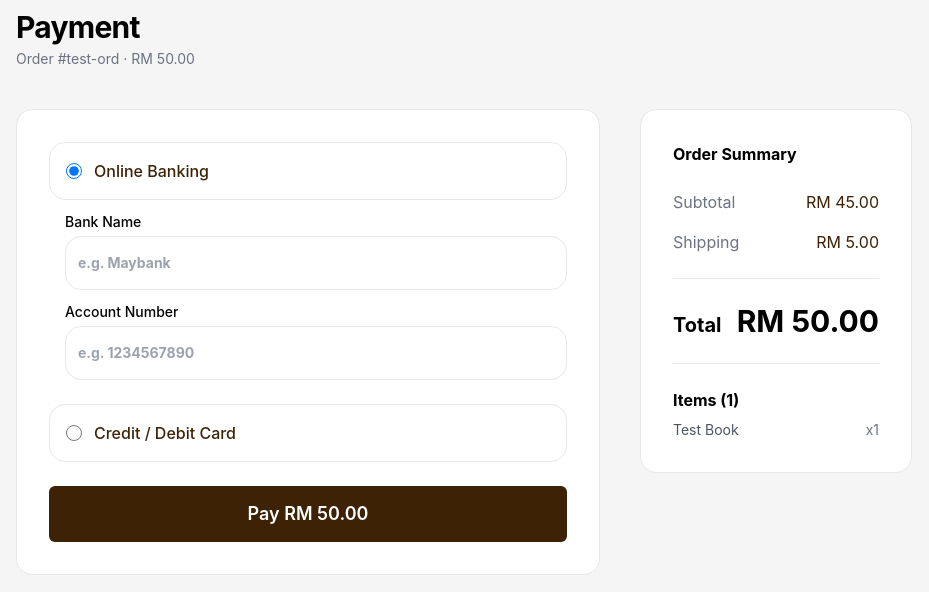
Test: CheckoutPaymentPage › shows card fields when card payment is selected
This screenshot has width=929, height=592.
Click the text "Credit / Debit Card".
click(165, 433)  # box x1=94 y1=421 x2=236 y2=445
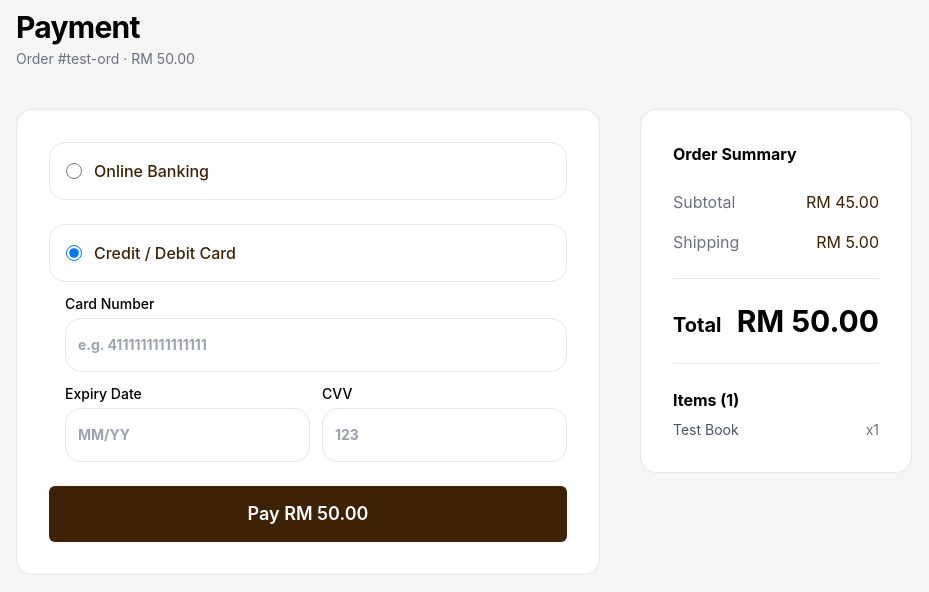
Expected: the field with placeholder "e.g. 4111111111111111" is shown, x1=65 y1=318 x2=567 y2=372
Expected: the field with placeholder "MM/YY" is shown, x1=65 y1=408 x2=310 y2=462
Expected: the field with placeholder "123" is shown, x1=322 y1=408 x2=567 y2=462
